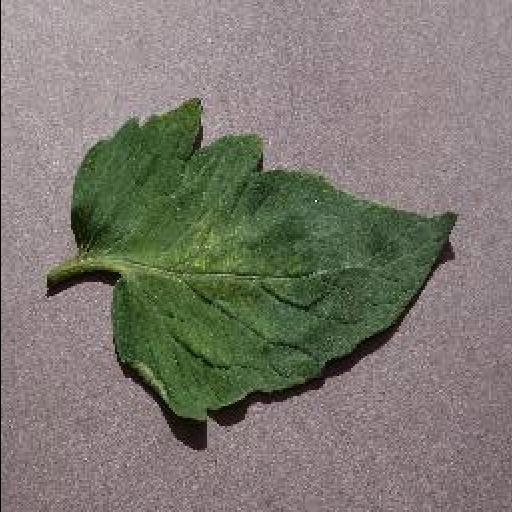disease_tomato: (70, 96, 460, 424)
